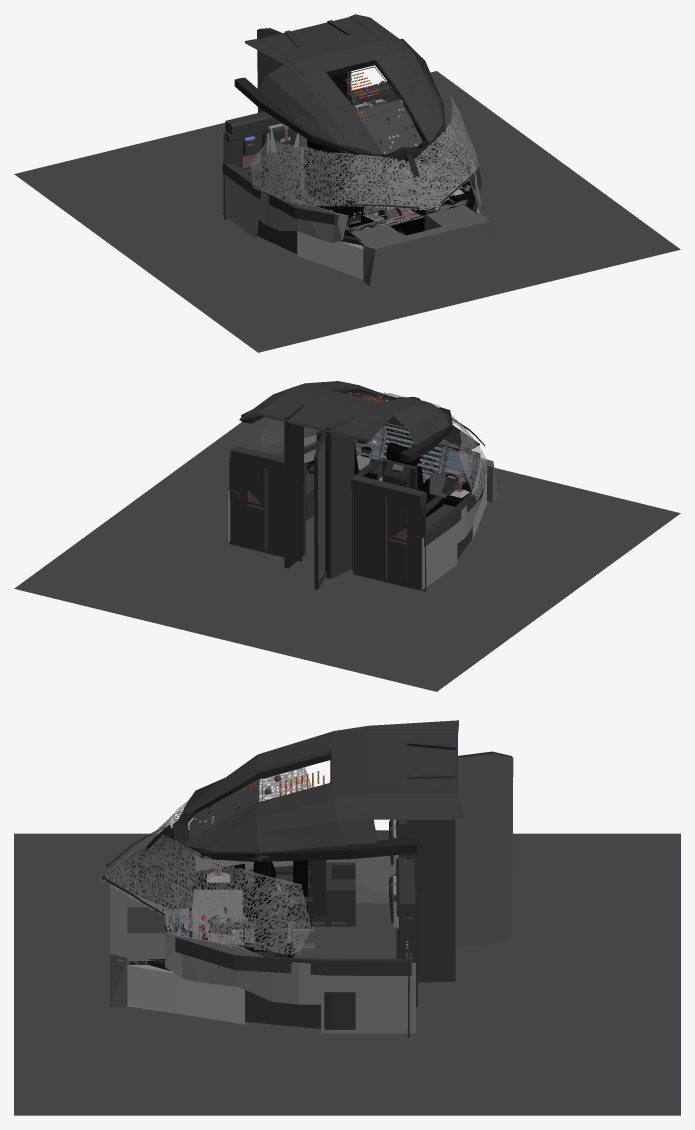
3 renders of one model, top to bottom at view 1: azimuth 30°, elevation 25°; view 2: azimuth 150°, elevation 25°; view 3: azimuth 270°, elevation 25°, orthographic. The views are drawn at different scales.
Parts seen in each view (by area): view 1: Plano, model_25, model_79, model_29, model_50, model_51, model_28, model_44, model_32, model_41, model_46, model_48 (+2 smaller); view 2: Plano, model_29, model_25, model_50, model_46, model_28, model_79, model_36, model_53, model_26, model_44, model_51 (+1 smaller); view 3: Plano, model_25, model_29, model_79, model_28, model_26, model_50, model_41, model_51, model_36, model_44, model_32 (+2 smaller).
Boxes of the visible parts, box(x1,y1,x2,y2) form: Plano: box(14, 71, 680, 352); model_25: box(245, 14, 443, 156); model_79: box(250, 96, 478, 210); model_29: box(223, 20, 481, 253); model_50: box(234, 21, 470, 245); model_51: box(351, 205, 492, 286); model_28: box(222, 145, 481, 242); model_44: box(305, 123, 452, 217); model_32: box(351, 80, 422, 154); model_41: box(297, 83, 479, 278); model_46: box(338, 162, 468, 232); model_48: box(348, 210, 424, 235); Plano: box(14, 417, 680, 691); model_29: box(228, 395, 486, 591); model_25: box(239, 381, 449, 445); model_50: box(241, 385, 479, 578); model_46: box(354, 423, 480, 482); model_28: box(227, 435, 486, 589); model_79: box(260, 392, 486, 501); model_36: box(307, 430, 443, 513); model_53: box(314, 432, 327, 589); model_26: box(314, 440, 324, 583); model_44: box(321, 431, 444, 517); model_51: box(429, 458, 498, 502); Plano: box(14, 833, 680, 1115); model_25: box(184, 720, 463, 861); model_29: box(106, 741, 455, 1037); model_79: box(99, 767, 311, 954); model_28: box(165, 855, 415, 1033); model_26: box(214, 753, 513, 947); model_50: box(101, 743, 455, 940); model_41: box(127, 775, 278, 1024); model_51: box(110, 885, 181, 1006); model_36: box(213, 860, 326, 957); model_44: box(237, 860, 307, 951); model_32: box(189, 775, 281, 839).
Size of the model in its own units: 6.3 by 2.24 by 6.3.
41 materials, 1 textured.
